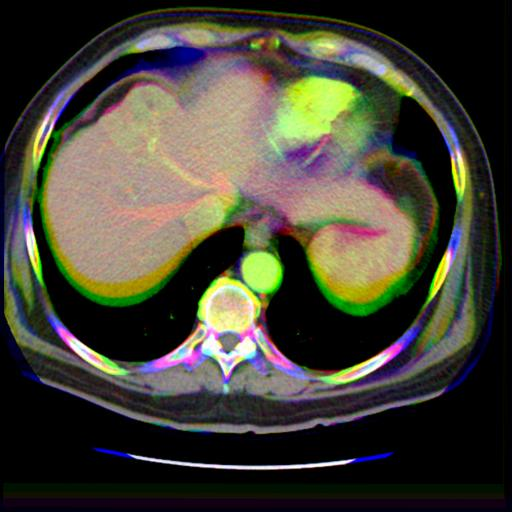Tumor: (115, 84, 165, 142)
